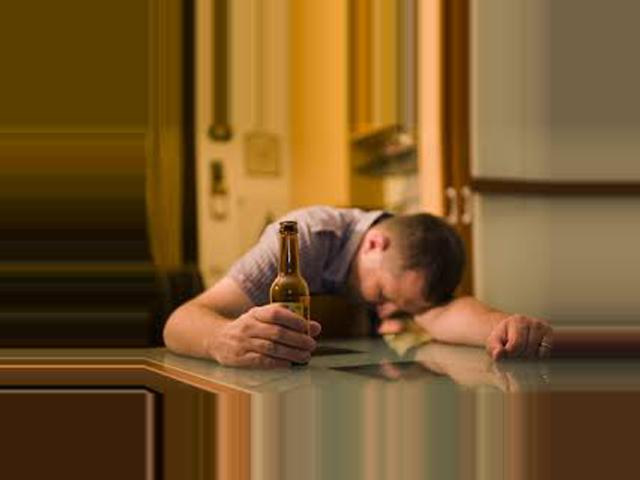beer: (272, 220, 308, 367)
